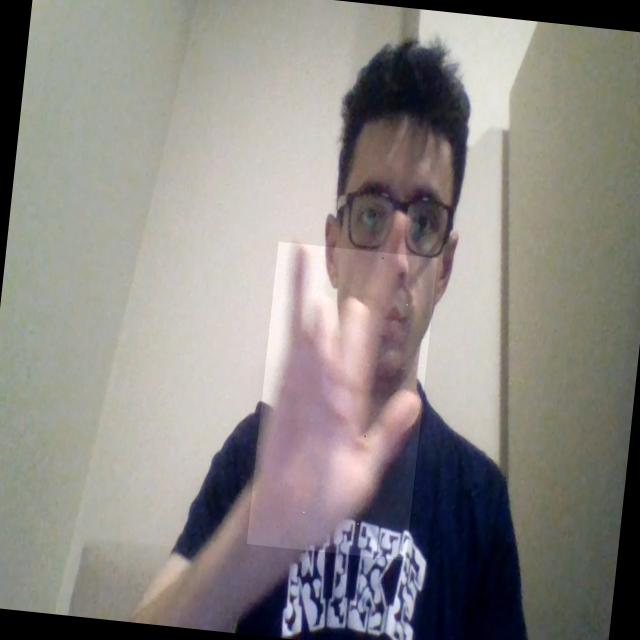iloveyou: (246, 241, 437, 560)
